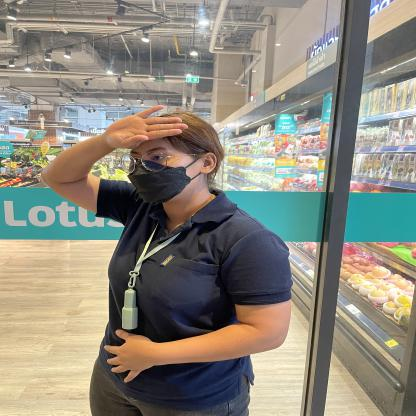Sick: (53, 95, 216, 157)
